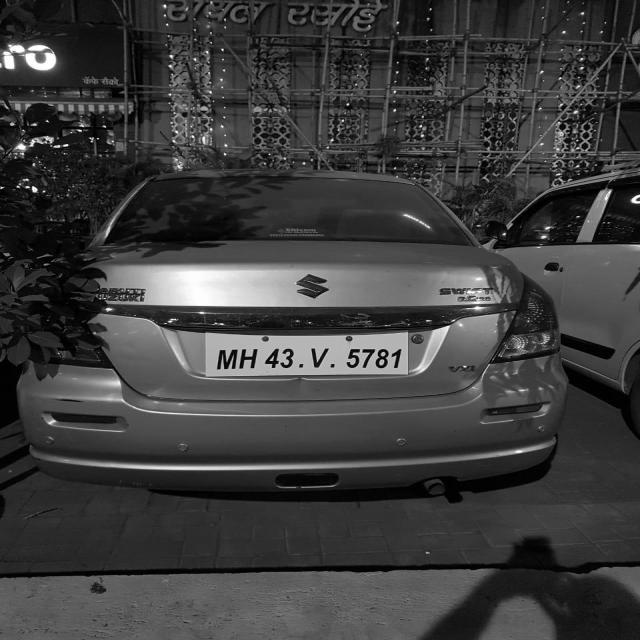car: (10, 160, 563, 492)
license-plate: (206, 330, 416, 382)
